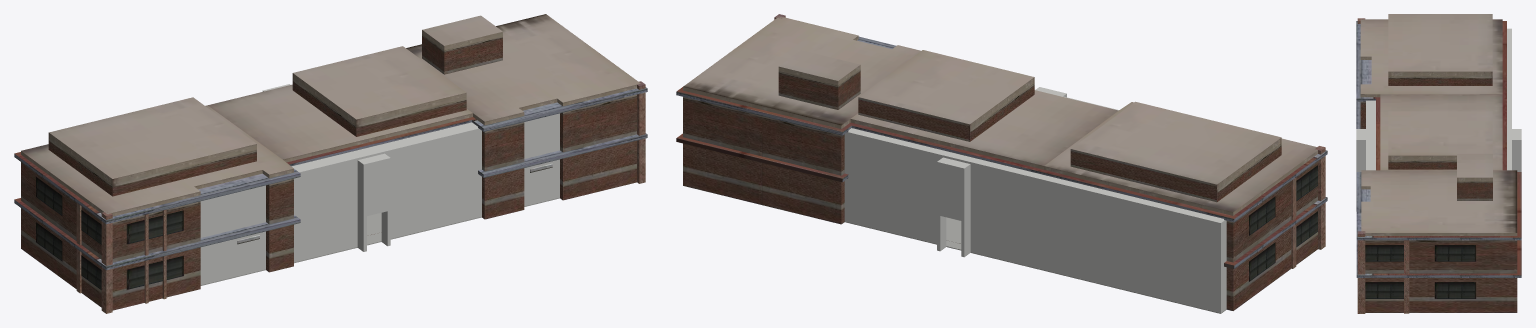
Rendered from ind-warehouse-4.access-v9.lod0.glb.
3 views of the same model, side by side, from view 1: azimuth 30°, elevation 25°; view 2: azimuth 150°, elevation 25°; view 3: azimuth 270°, elevation 25° (orthographic). The views are drawn at different scales.
Visible parts, largest first — view 1: Industrial_Warehouse_4_Industrial_Facade_Flr_1_0, Walkable floors and stairs (×2); view 2: Industrial_Warehouse_4_Industrial_Facade_Flr_1_0, Walkable floors and stairs (×2); view 3: Industrial_Warehouse_4_Industrial_Facade_Flr_1_0, Walkable floors and stairs.
Part boxes in pixels (bbox=[...]): Industrial_Warehouse_4_Industrial_Facade_Flr_1_0: bbox=[14, 14, 647, 313]; Walkable floors and stairs (×2): bbox=[200, 84, 559, 285]; Industrial_Warehouse_4_Industrial_Facade_Flr_1_0: bbox=[676, 14, 1327, 310]; Walkable floors and stairs (×2): bbox=[844, 87, 1226, 313]; Industrial_Warehouse_4_Industrial_Facade_Flr_1_0: bbox=[1356, 14, 1521, 313]; Walkable floors and stairs: bbox=[1356, 28, 1521, 211].
Size of the model in its own units: 42.08 by 9.38 by 13.6.
Materials: 3 (1 with a texture image).
